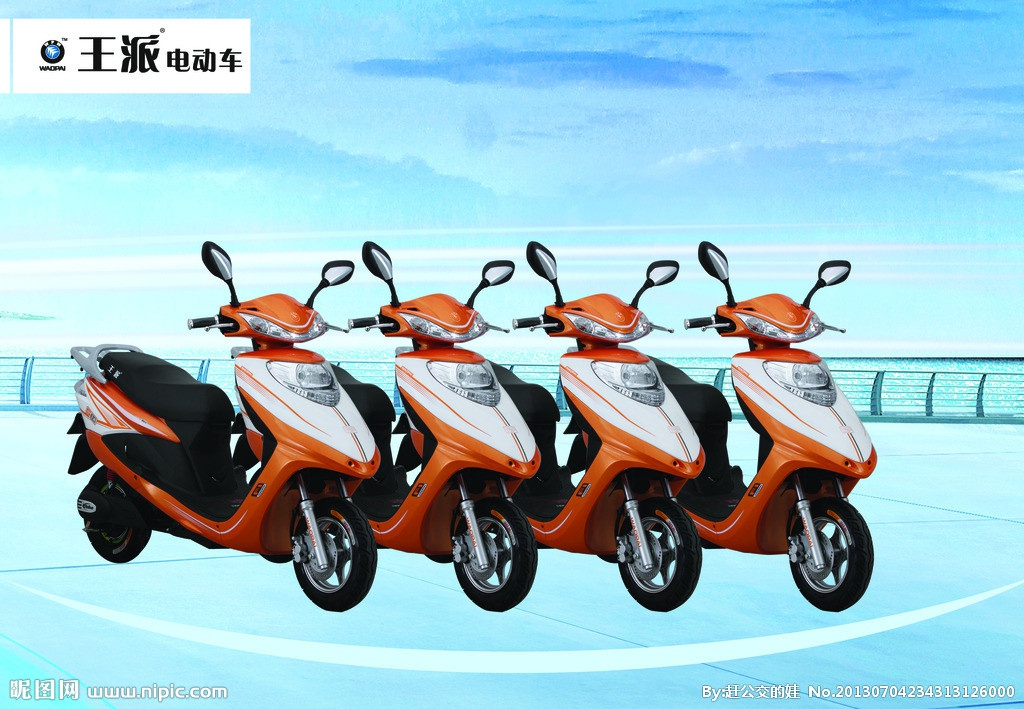non-vehicle: (67, 291, 380, 610), (509, 292, 706, 616), (351, 292, 544, 612), (700, 294, 878, 614)
